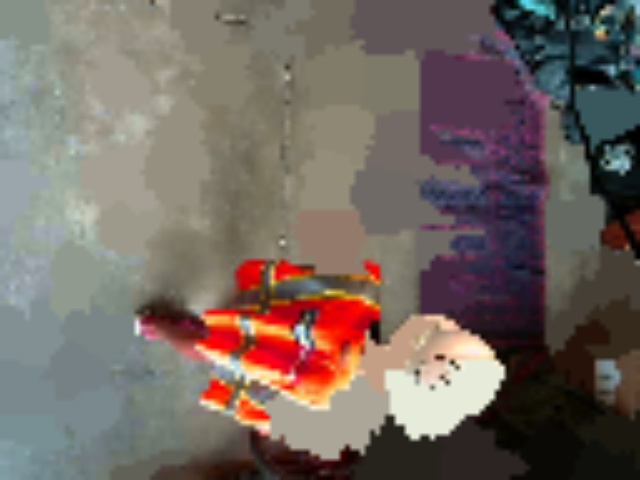three: (415, 357, 462, 401)
